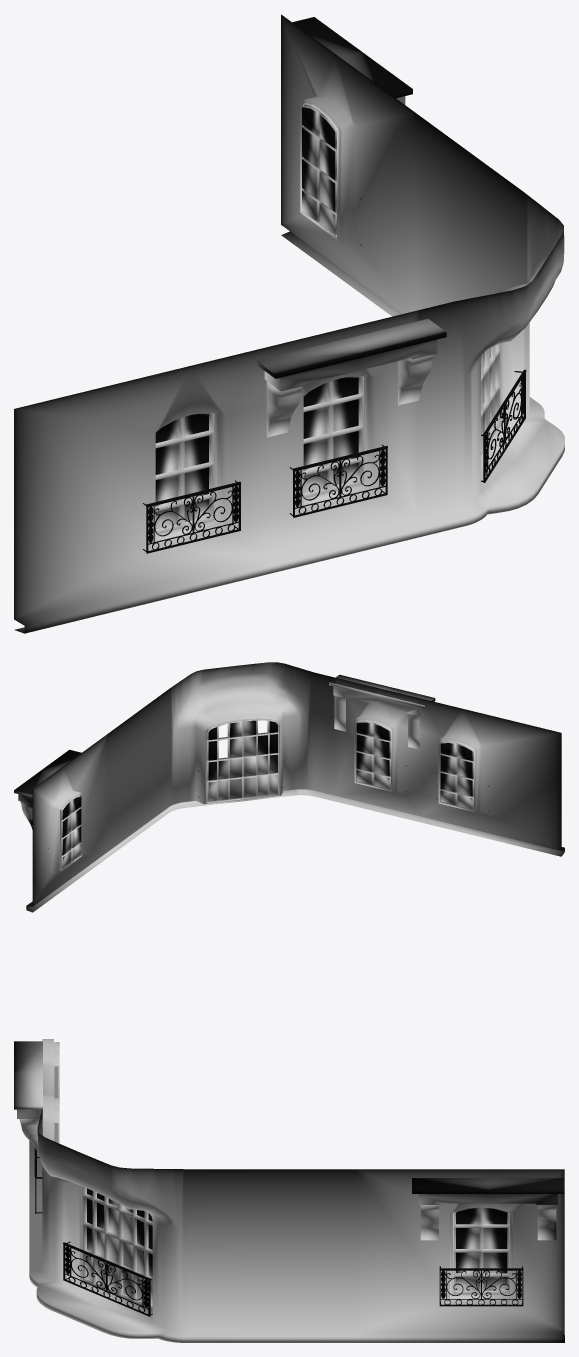
File: ENV_Windows_Batiment_Corner_Floor_01.fbx
3 renders of one model, top to bottom at view 1: azimuth 30°, elevation 25°; view 2: azimuth 150°, elevation 25°; view 3: azimuth 270°, elevation 25°, orthographic. The views are drawn at different scales.
Parts seen in each view (by area): view 1: ENV_Batiment_Corner_02.002; view 2: ENV_Batiment_Corner_02.002; view 3: ENV_Batiment_Corner_02.002.
Part boxes in pixels (x1,y1,x2,y2): ENV_Batiment_Corner_02.002: (14, 14, 564, 633); ENV_Batiment_Corner_02.002: (14, 662, 564, 912); ENV_Batiment_Corner_02.002: (14, 1039, 564, 1342).
Bounding box in the file's own units: 1288 × 426 × 1245.
